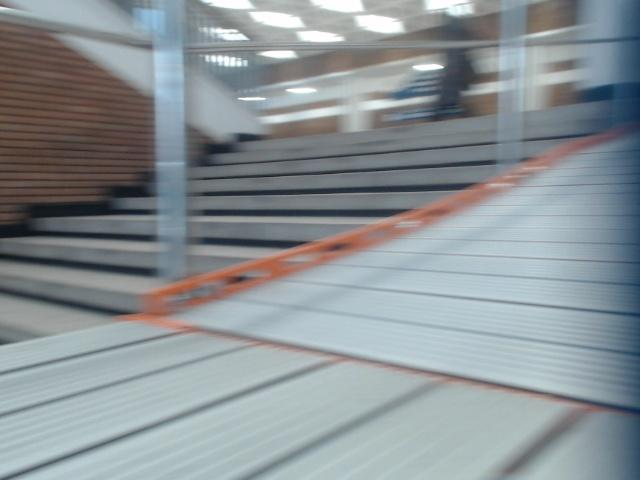rampUp: (0, 126, 639, 479)
ramps-railing: (152, 0, 527, 277)
